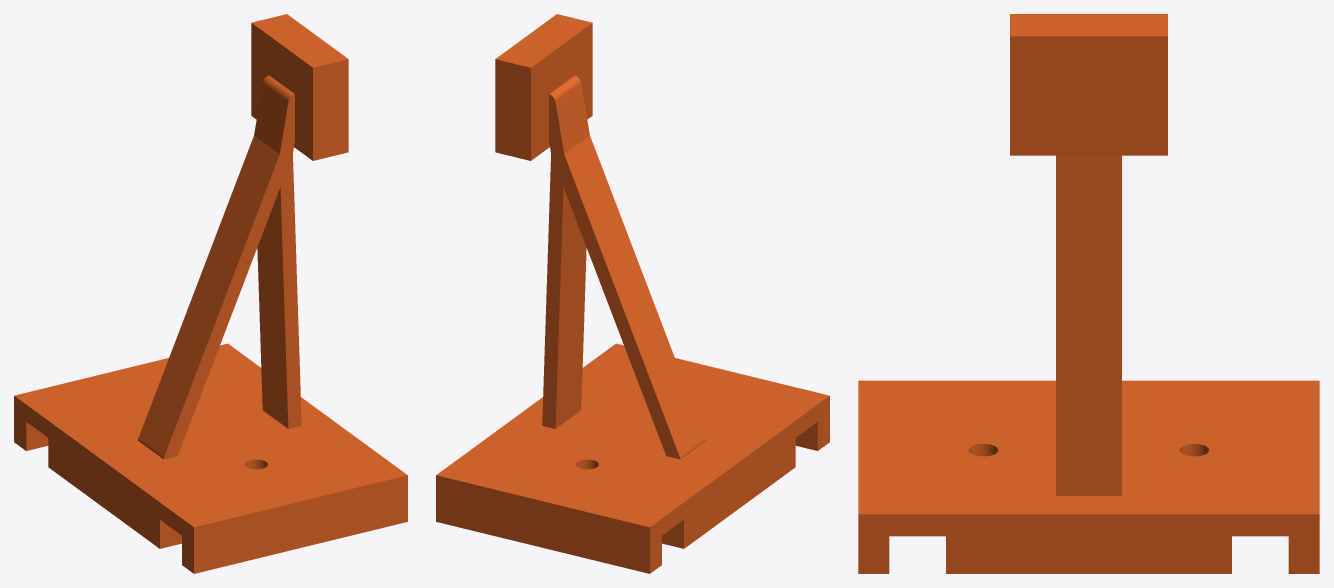
Rendered from 06-left.glb.
The picture shows the model from 3 angles, left to right: view 1: azimuth 30°, elevation 25°; view 2: azimuth 150°, elevation 25°; view 3: azimuth 270°, elevation 25°; orthographic projection. The views are drawn at different scales.
Parts seen in each view (by area): view 1: left_solid; view 2: left_solid; view 3: left_solid.
Boxes of the visible parts, bbox=[...] form: left_solid: bbox=[14, 14, 407, 573]; left_solid: bbox=[436, 14, 829, 573]; left_solid: bbox=[858, 14, 1319, 573].
Bounding box in the file's own units: 48 × 90 × 70.
